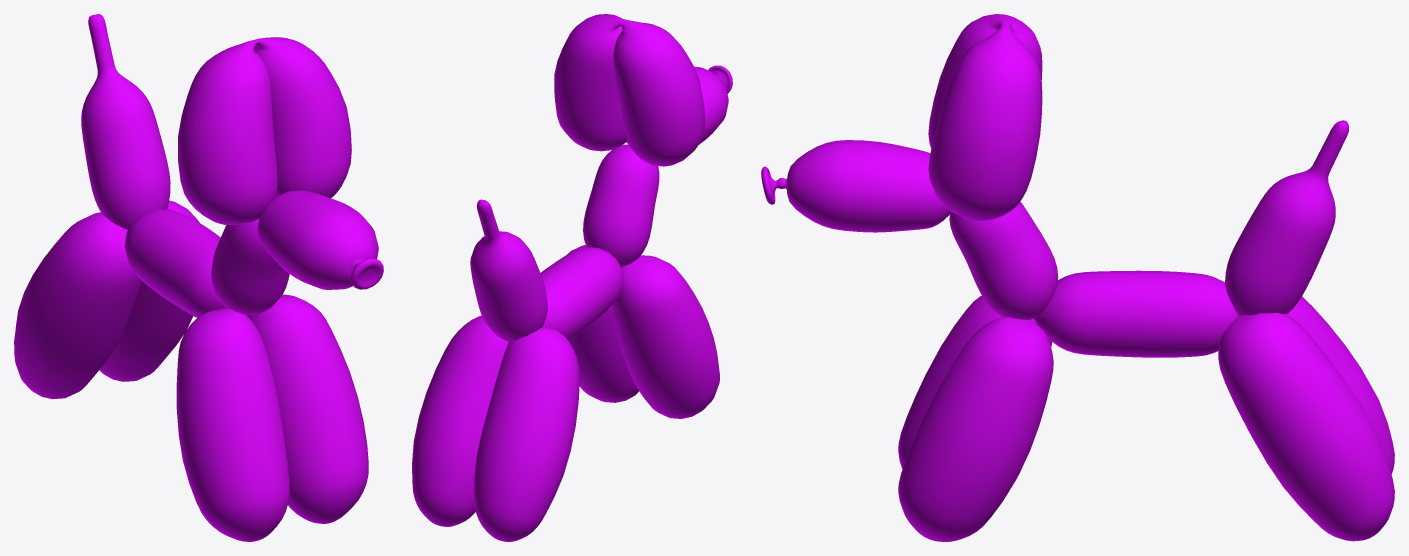
File: koons.glb
3 views of the same model, side by side, from view 1: azimuth 30°, elevation 25°; view 2: azimuth 150°, elevation 25°; view 3: azimuth 270°, elevation 25° (orthographic). The views are drawn at different scales.
Visible parts, largest first — view 1: Sphere.004; view 2: Sphere.004; view 3: Sphere.004.
Part boxes in pixels (x1,y1,x2,y2): Sphere.004: [14, 14, 383, 541]; Sphere.004: [412, 14, 732, 541]; Sphere.004: [761, 14, 1394, 541].
Bounding box in the file's own units: 2.66 × 7.03 × 8.15.
